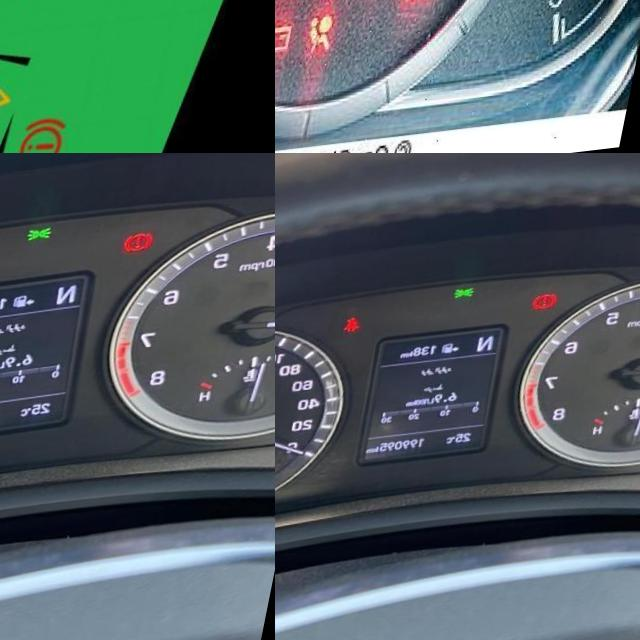Seat Belt: (354, 319, 371, 338)
